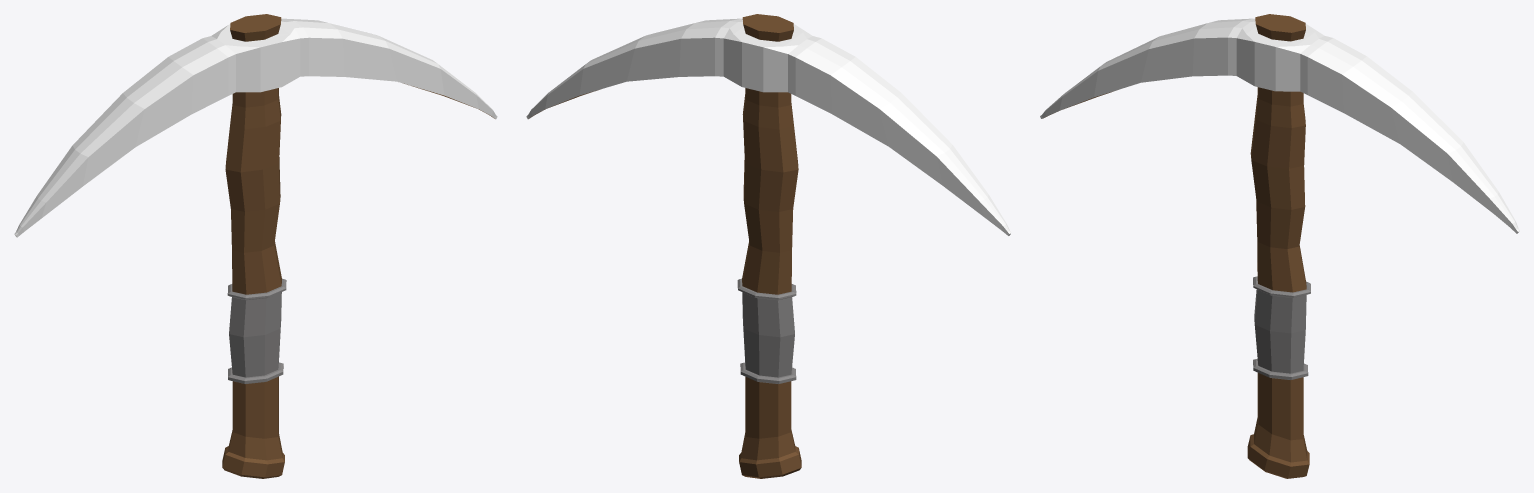
The model's file is SilverPickaxe.fbx.
3 renders of one model, left to right at view 1: azimuth 30°, elevation 25°; view 2: azimuth 150°, elevation 25°; view 3: azimuth 330°, elevation 25°, orthographic.
Visible parts, largest first — view 1: Cube.008; view 2: Cube.008; view 3: Cube.008.
Boxes of the visible parts, bbox=[...] form: Cube.008: bbox=[14, 14, 497, 478]; Cube.008: bbox=[526, 14, 1011, 478]; Cube.008: bbox=[1040, 14, 1519, 478].
Bounding box in the file's own units: 4421 × 3962 × 498.
